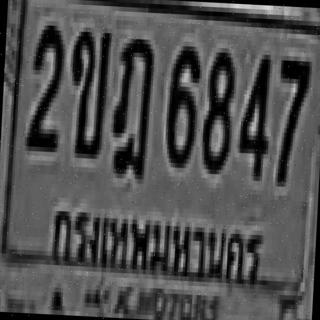A02: (66, 22, 110, 155)
A14: (109, 34, 153, 175)
N02: (24, 20, 64, 148)
N04: (236, 49, 271, 177)
N06: (164, 41, 199, 164)
N07: (273, 56, 310, 183)
N08: (199, 48, 234, 170)
P04: (41, 191, 273, 305)
